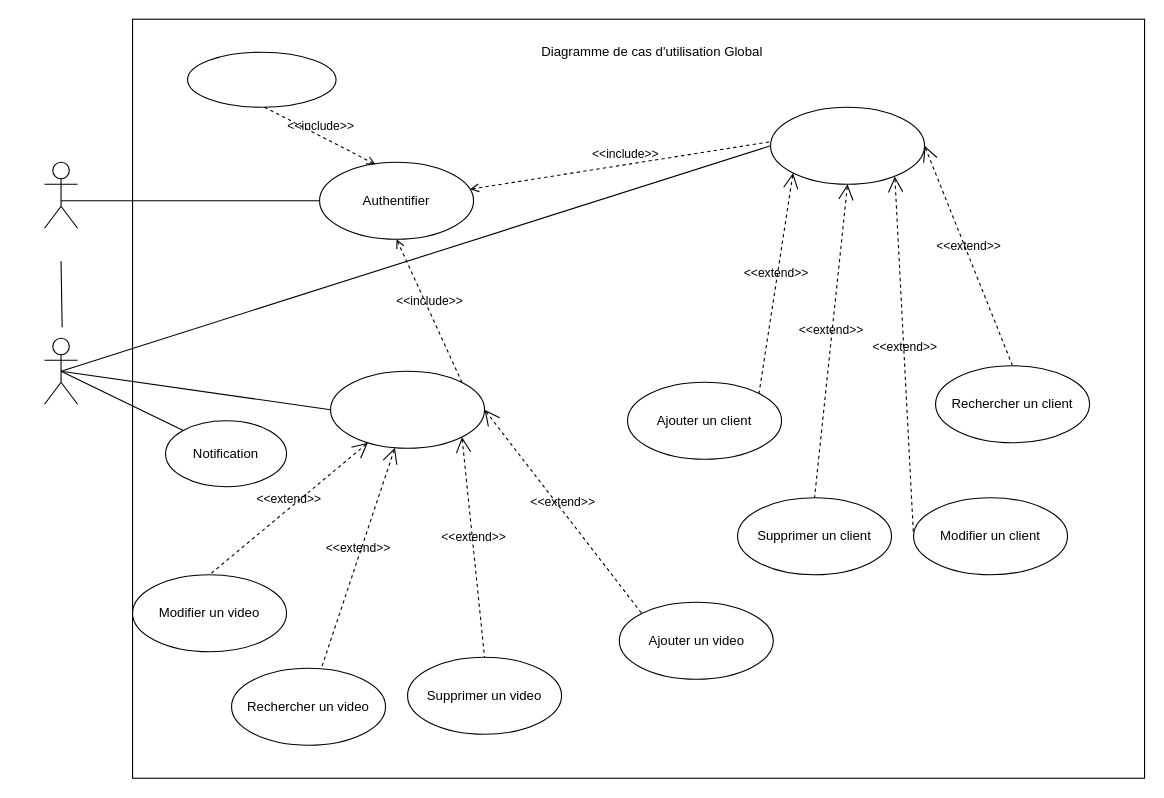
Image size: 1164x798. Some labels were removed from this diagram. Each missing label, with the centre of its shape:
Administrateur: pixel 60 194
Consulter la liste des clients: pixel 847 145
Consulter la liste des video: pixel 407 409
Créer un compte: pixel 261 79
technicien: pixel 60 370
